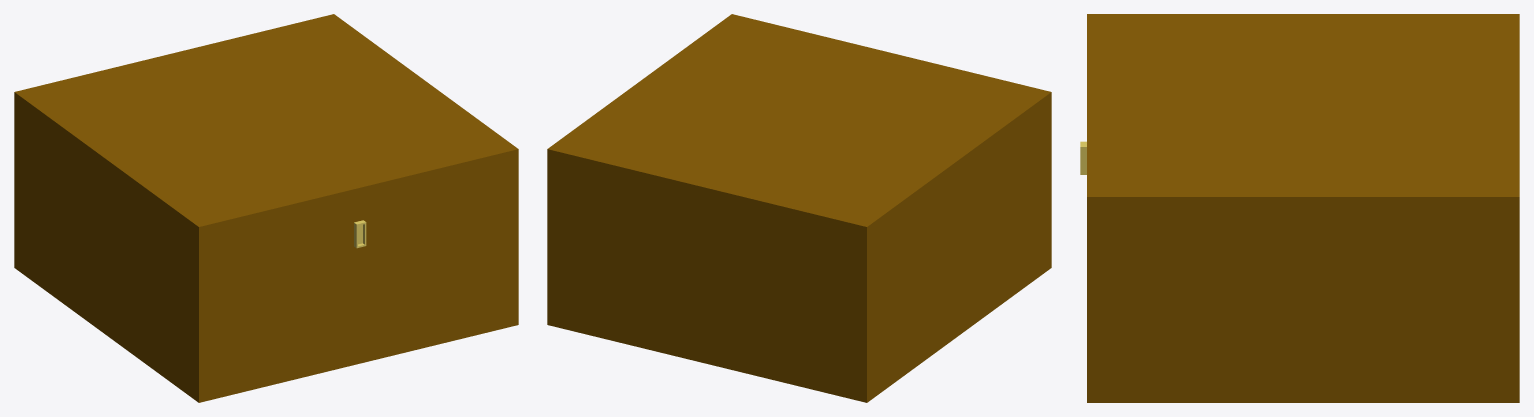
The model's file is Chest.fbx.
3 views of the same model, side by side, from view 1: azimuth 30°, elevation 25°; view 2: azimuth 150°, elevation 25°; view 3: azimuth 270°, elevation 25° (orthographic). The views are drawn at different scales.
Parts seen in each view (by area): view 1: Chest; view 2: Chest; view 3: Chest.
Boxes of the visible parts, bbox=[...] form: Chest: bbox=[14, 14, 518, 402]; Chest: bbox=[547, 14, 1051, 402]; Chest: bbox=[1080, 14, 1519, 402].
Bounding box in the file's own units: 100 × 52.57 × 102.
